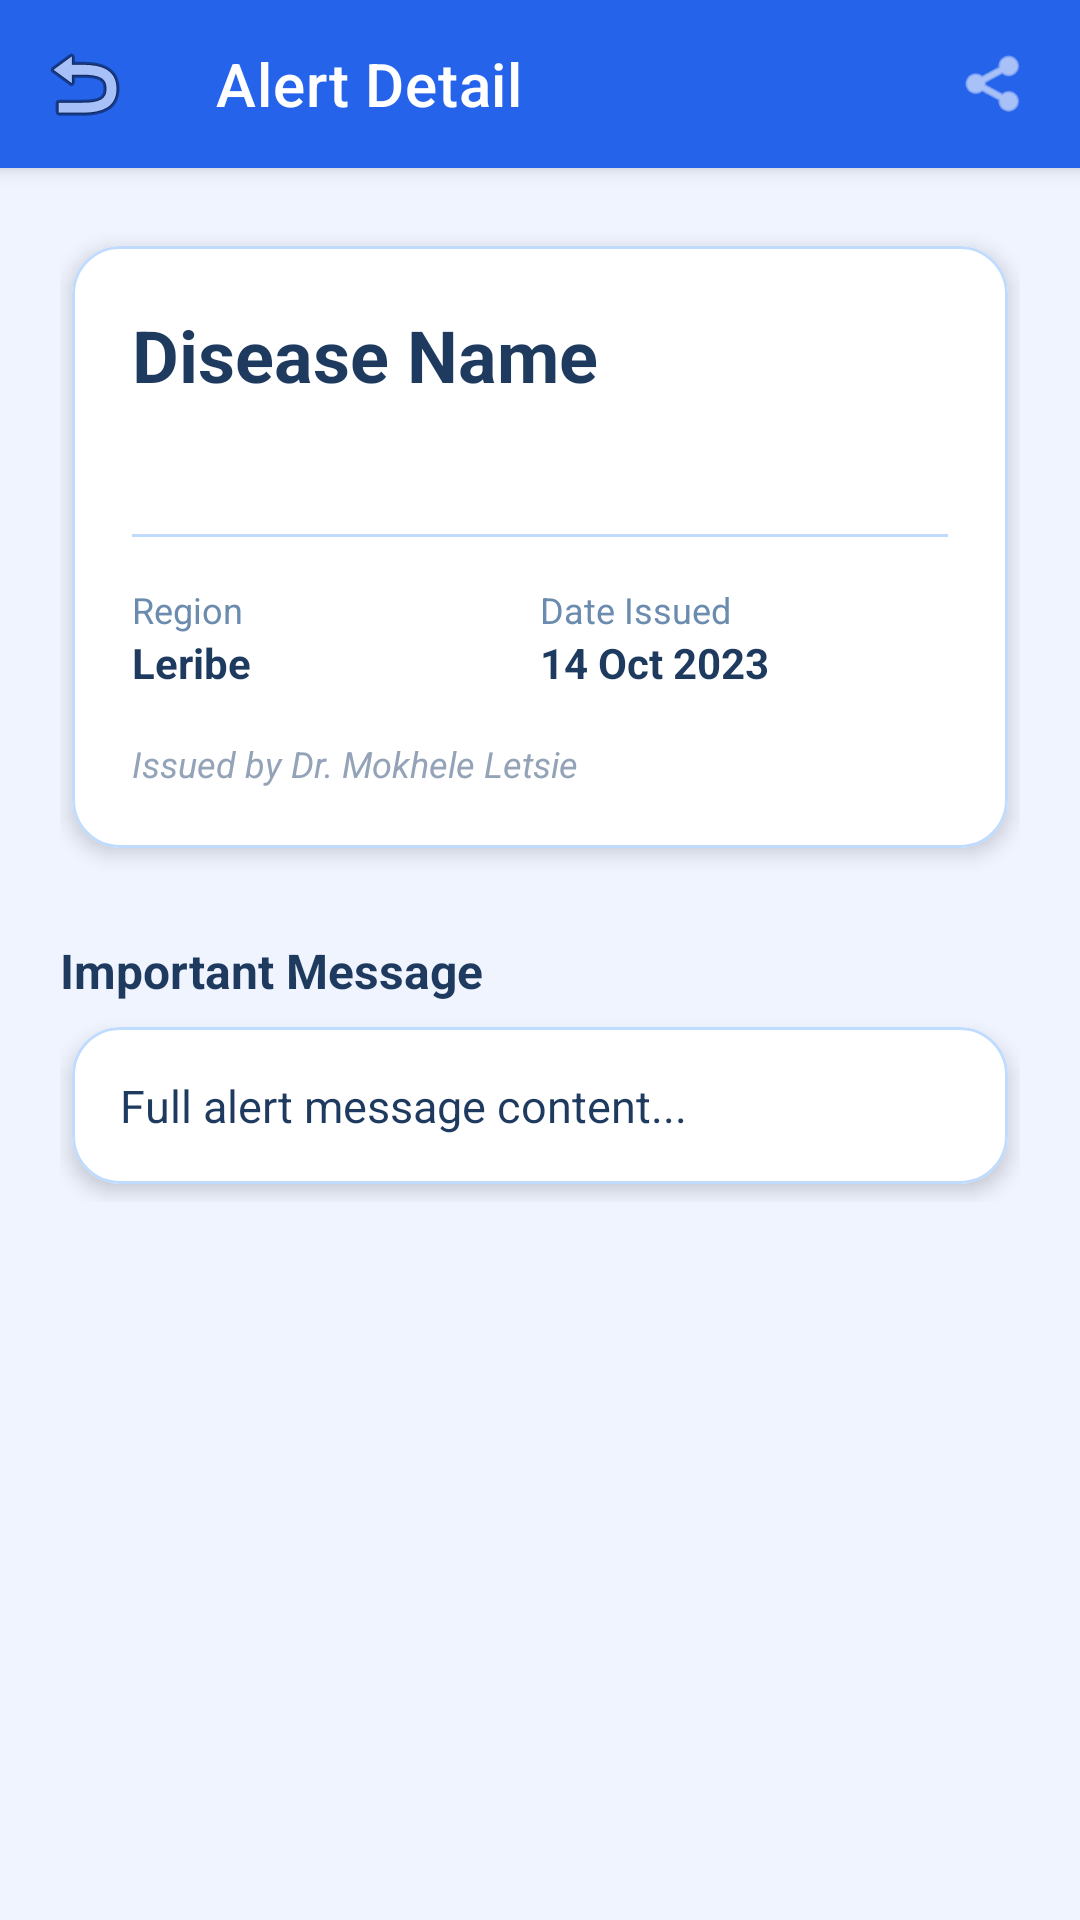

Screen size 1080×1920. Icon name, then its box in pixels as (x1, y1, x2, y2):
share: (965, 55, 1019, 112)
